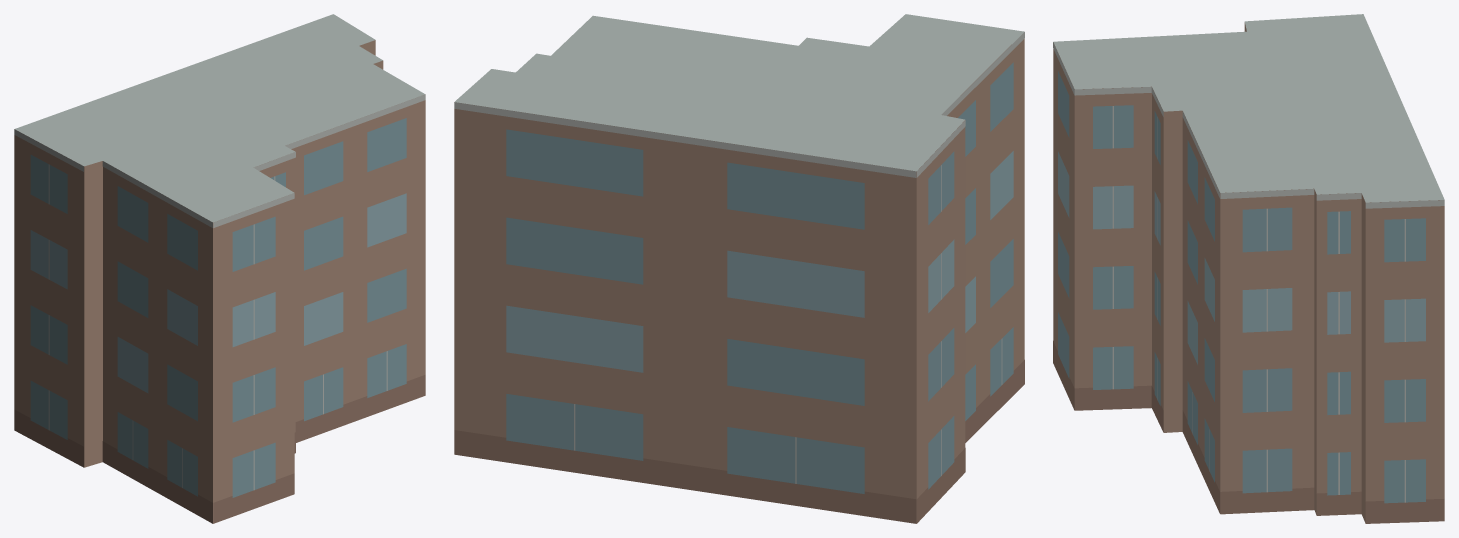
File: survey-upis-33000505.glb
3 renders of one model, left to right at view 1: azimuth 30°, elevation 25°; view 2: azimuth 150°, elevation 25°; view 3: azimuth 270°, elevation 25°, orthographic. The views are drawn at different scales.
Visible parts, largest first — view 1: survey-upis-33000505.tmp; view 2: survey-upis-33000505.tmp; view 3: survey-upis-33000505.tmp.
Boxes of the visible parts, x1,y1,x2,y2 form: survey-upis-33000505.tmp: (14, 14, 425, 523); survey-upis-33000505.tmp: (454, 14, 1024, 523); survey-upis-33000505.tmp: (1053, 14, 1444, 523).
Size of the model in its own units: 16.12 by 12.8 by 14.15.
